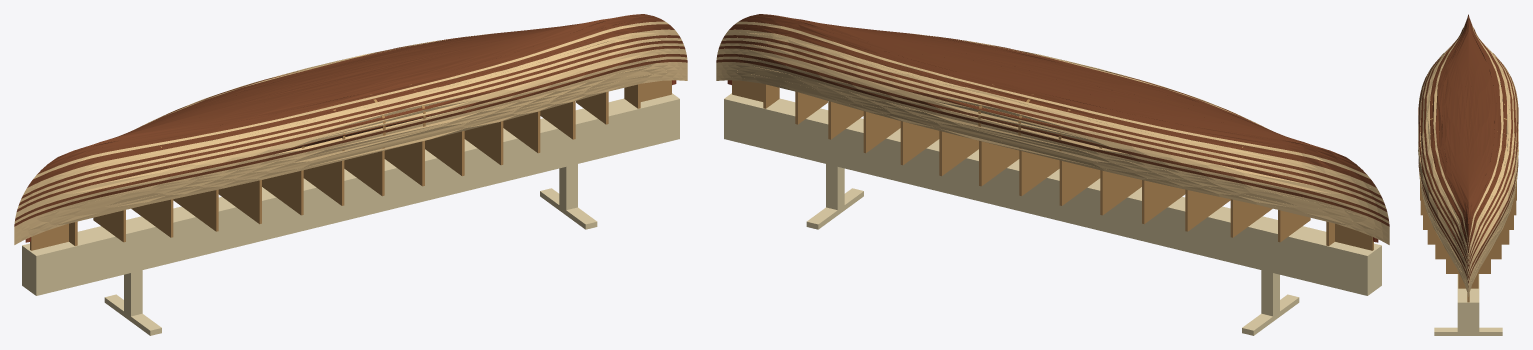
The model's file is canoe_on_molds.glb.
3 views of the same model, side by side, from view 1: azimuth 30°, elevation 25°; view 2: azimuth 150°, elevation 25°; view 3: azimuth 270°, elevation 25° (orthographic). The views are drawn at different scales.
Visible parts, largest first — view 1: strongback_box_beam, strip_S13_dark, strip_S12_light, strip_S14_light, strip_S11_light, strip_S15_dark, strip_S16_light, strip_S10_dark, strip_S17_dark, strip_S09_light, strip_S06_light, strip_S08_dark (+56 smaller); view 2: strongback_box_beam, strip_P13_dark, strip_P12_light, strip_P14_light, strip_P11_light, strip_P15_dark, strip_P16_light, strip_P10_dark, strip_P17_dark, strip_P09_light, strip_P06_light, strip_P08_dark (+56 smaller); view 3: strongback_box_beam, strip_S23_dark, strip_P23_dark, strip_S26_dark, strip_S20_dark, strip_S22_light, strip_P20_dark, strip_P22_light, strip_P26_dark, strip_S25_dark, strip_P25_dark, strip_S19_light (+70 smaller).
Boxes of the visible parts, bbox=[...] form: strongback_box_beam: bbox=[22, 93, 679, 295]; strip_S13_dark: bbox=[16, 46, 685, 211]; strip_S12_light: bbox=[16, 48, 685, 215]; strip_S14_light: bbox=[17, 43, 684, 208]; strip_S11_light: bbox=[15, 51, 686, 218]; strip_S15_dark: bbox=[18, 40, 683, 205]; strip_S16_light: bbox=[20, 37, 681, 202]; strip_S10_dark: bbox=[15, 54, 686, 220]; strip_S17_dark: bbox=[21, 35, 680, 198]; strip_S09_light: bbox=[14, 56, 687, 223]; strip_S06_light: bbox=[14, 64, 687, 231]; strip_S08_dark: bbox=[14, 59, 687, 226]; strongback_box_beam: bbox=[724, 93, 1381, 295]; strip_P13_dark: bbox=[718, 46, 1387, 211]; strip_P12_light: bbox=[718, 48, 1387, 215]; strip_P14_light: bbox=[719, 43, 1386, 208]; strip_P11_light: bbox=[717, 51, 1388, 218]; strip_P15_dark: bbox=[720, 40, 1385, 205]; strip_P16_light: bbox=[722, 37, 1383, 202]; strip_P10_dark: bbox=[717, 54, 1388, 220]; strip_P17_dark: bbox=[723, 35, 1382, 198]; strip_P09_light: bbox=[716, 56, 1389, 223]; strip_P06_light: bbox=[716, 64, 1389, 231]; strip_P08_dark: bbox=[716, 59, 1389, 226]; strongback_box_beam: bbox=[1457, 274, 1479, 332]; strip_S23_dark: bbox=[1435, 20, 1468, 244]; strip_P23_dark: bbox=[1468, 20, 1501, 241]; strip_S26_dark: bbox=[1442, 14, 1468, 227]; strip_S20_dark: bbox=[1430, 30, 1468, 255]; strip_S22_light: bbox=[1433, 25, 1468, 248]; strip_P20_dark: bbox=[1468, 30, 1506, 252]; strip_P22_light: bbox=[1468, 25, 1503, 245]; strip_P26_dark: bbox=[1468, 20, 1494, 218]; strip_S25_dark: bbox=[1439, 15, 1468, 234]; strip_P25_dark: bbox=[1468, 15, 1497, 231]; strip_S19_light: bbox=[1427, 32, 1468, 259].
Bounding box in the file's own units: 5106 × 1370 × 886.
